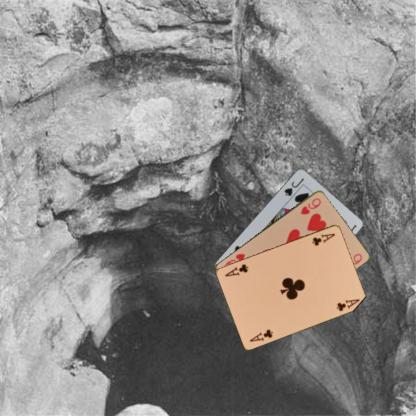9h: (298, 196, 322, 216)
Ac: (310, 230, 336, 247), (247, 326, 274, 342)
Js: (281, 175, 306, 197)
